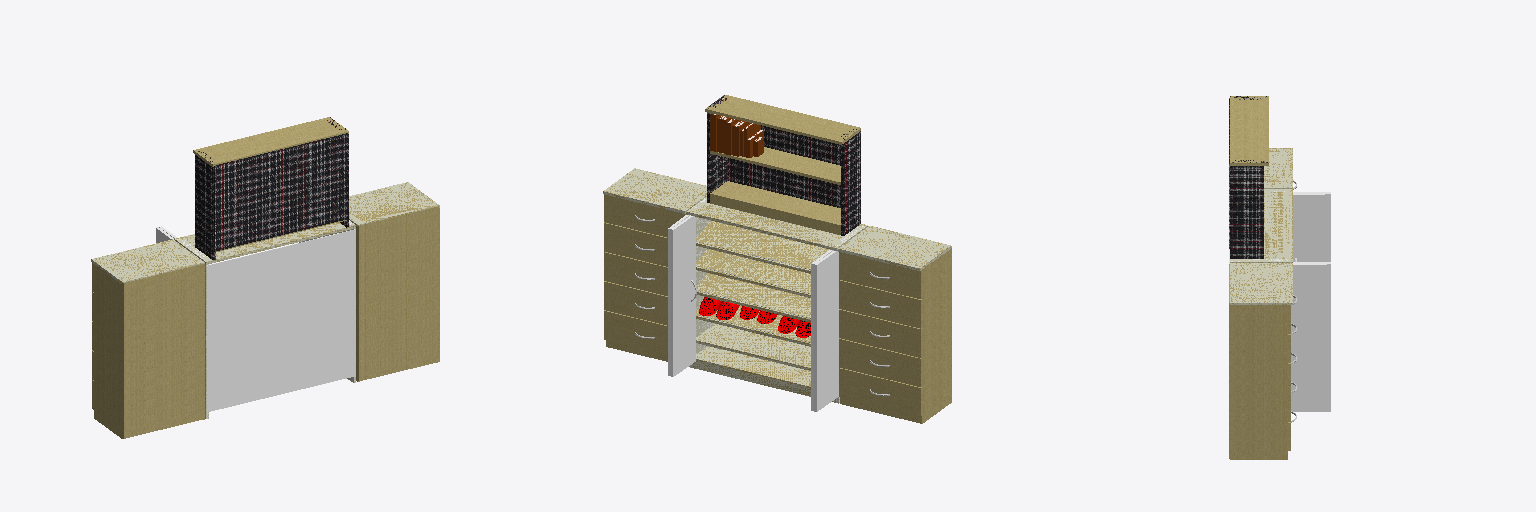
3 views of the same model, side by side, from view 1: azimuth 30°, elevation 25°; view 2: azimuth 150°, elevation 25°; view 3: azimuth 270°, elevation 25° (orthographic).
Parts seen in each view (by area): view 1: mesh21_mesh21-geometry, mesh30_mesh30-geometry, mesh85_mesh85-geometry, mesh14_mesh14-geometry, mesh15_mesh15-geometry, mesh73_mesh73-geometry, mesh77_mesh77-geometry, mesh56_mesh56-geometry; view 2: mesh3_mesh3-geometry, mesh14_mesh14-geometry, mesh15_mesh15-geometry, mesh85_mesh85-geometry, mesh65_mesh65-geometry, mesh63_mesh63-geometry, mesh27_mesh27-geometry, mesh73_mesh73-geometry, mesh53_mesh53-geometry, mesh47_mesh47-geometry, mesh56_mesh56-geometry, mesh44_mesh44-geometry (+13 smaller); view 3: mesh17_mesh17-geometry, mesh61_mesh61-geometry, mesh14_mesh14-geometry, mesh75_mesh75-geometry, mesh73_mesh73-geometry, mesh67_mesh67-geometry, mesh56_mesh56-geometry.
Boxes of the visible parts, box(x1,y1,x2,y2) form: mesh21_mesh21-geometry: box(123, 206, 438, 438); mesh30_mesh30-geometry: box(207, 229, 355, 411); mesh85_mesh85-geometry: box(214, 133, 347, 251); mesh14_mesh14-geometry: box(91, 182, 439, 284); mesh15_mesh15-geometry: box(94, 227, 359, 438); mesh73_mesh73-geometry: box(193, 117, 348, 166); mesh77_mesh77-geometry: box(195, 155, 215, 259); mesh56_mesh56-geometry: box(174, 220, 355, 264); mesh3_mesh3-geometry: box(604, 194, 921, 416); mesh14_mesh14-geometry: box(603, 168, 951, 270); mesh15_mesh15-geometry: box(920, 248, 951, 423); mesh85_mesh85-geometry: box(728, 125, 840, 207); mesh65_mesh65-geometry: box(814, 251, 838, 411); mesh63_mesh63-geometry: box(671, 215, 695, 376); mesh27_mesh27-geometry: box(696, 221, 829, 273); mesh73_mesh73-geometry: box(705, 95, 860, 144); mesh53_mesh53-geometry: box(696, 273, 810, 322); mesh47_mesh47-geometry: box(696, 249, 810, 297); mesh56_mesh56-geometry: box(686, 197, 867, 250); mesh44_mesh44-geometry: box(696, 324, 810, 370); mesh17_mesh17-geometry: box(1230, 305, 1287, 459); mesh61_mesh61-geometry: box(1291, 263, 1330, 411); mesh14_mesh14-geometry: box(1230, 148, 1292, 304); mesh75_mesh75-geometry: box(1230, 166, 1263, 258); mesh73_mesh73-geometry: box(1230, 96, 1268, 165); mesh67_mesh67-geometry: box(1293, 193, 1330, 261); mesh56_mesh56-geometry: box(1230, 189, 1292, 262).
Bounding box in the file's own units: 0.7762 × 0.5922 × 0.2166.
Materials: 11 (4 with a texture image).